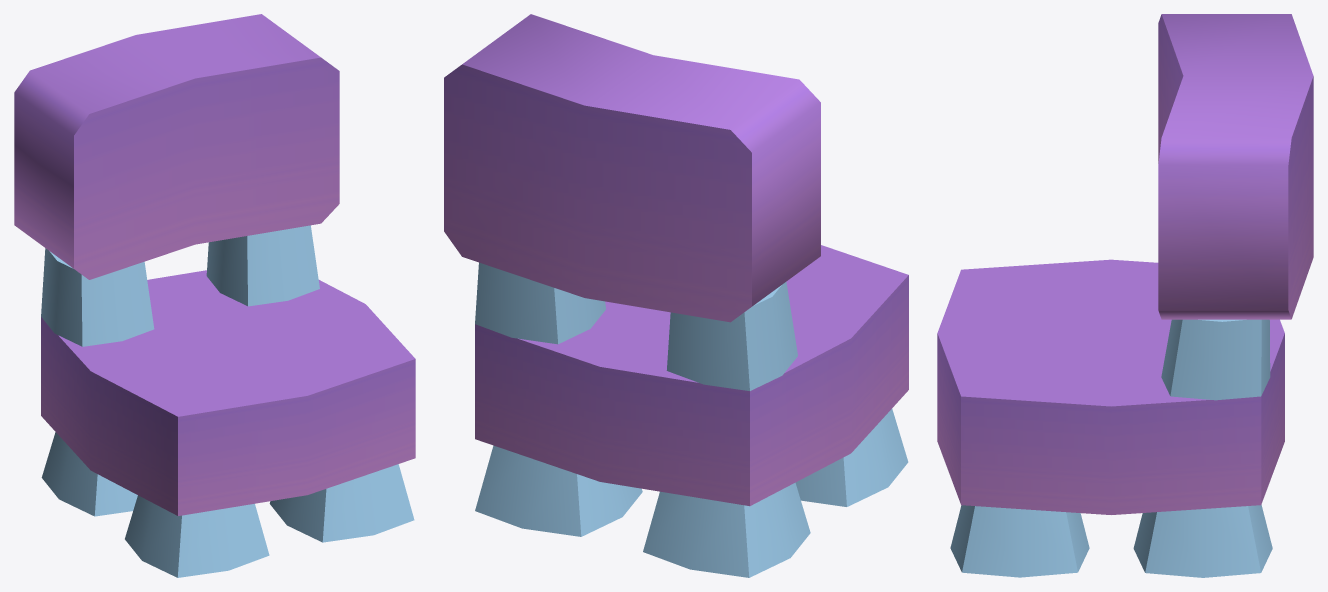
The model's file is chair.fbx.
3 renders of one model, left to right at view 1: azimuth 30°, elevation 25°; view 2: azimuth 150°, elevation 25°; view 3: azimuth 270°, elevation 25°, orthographic. The views are drawn at different scales.
Visible parts, largest first — view 1: chair; view 2: chair; view 3: chair.
Boxes of the visible parts, box(x1,y1,x2,y2) form: chair: box(14, 14, 415, 577); chair: box(444, 14, 908, 577); chair: box(937, 14, 1313, 577).
Bounding box in the file's own units: 34.65 × 47.73 × 37.51.
